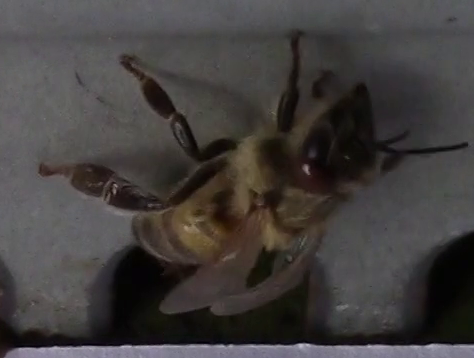Varroa destructor: (294, 158, 342, 197)
